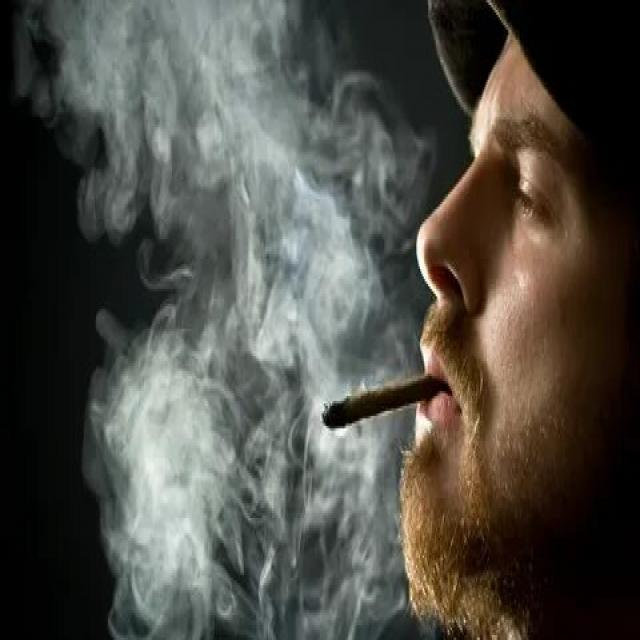cigarette: (320, 371, 447, 428)
